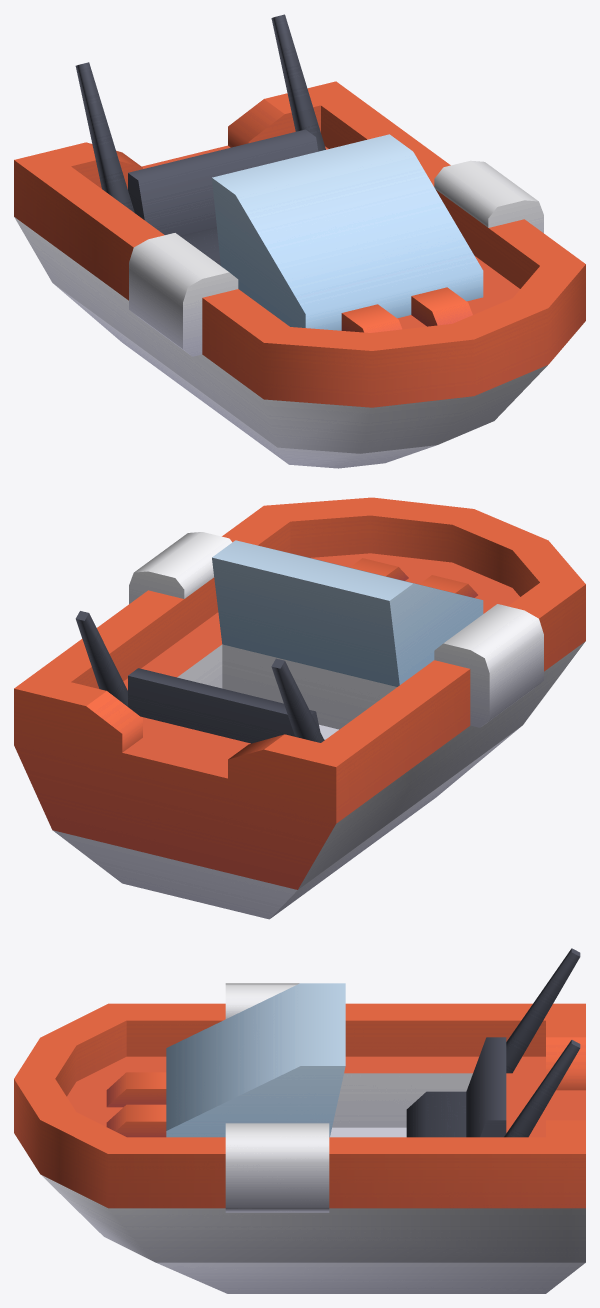
Rendered from boat-speed-e.glb.
The picture shows the model from 3 angles, top to bottom: view 1: azimuth 30°, elevation 25°; view 2: azimuth 150°, elevation 25°; view 3: azimuth 270°, elevation 25°; orthographic projection. The views are drawn at different scales.
Visible parts, largest first — view 1: boat-speed-e; view 2: boat-speed-e; view 3: boat-speed-e.
Boxes of the visible parts, <box> form: boat-speed-e: <box>14,14,585,468</box>; boat-speed-e: <box>14,497,585,919</box>; boat-speed-e: <box>14,948,585,1293</box>.
Bounding box in the file's own units: 6.8 × 4.96 × 9.76.
Materials: 1 (1 with a texture image).
